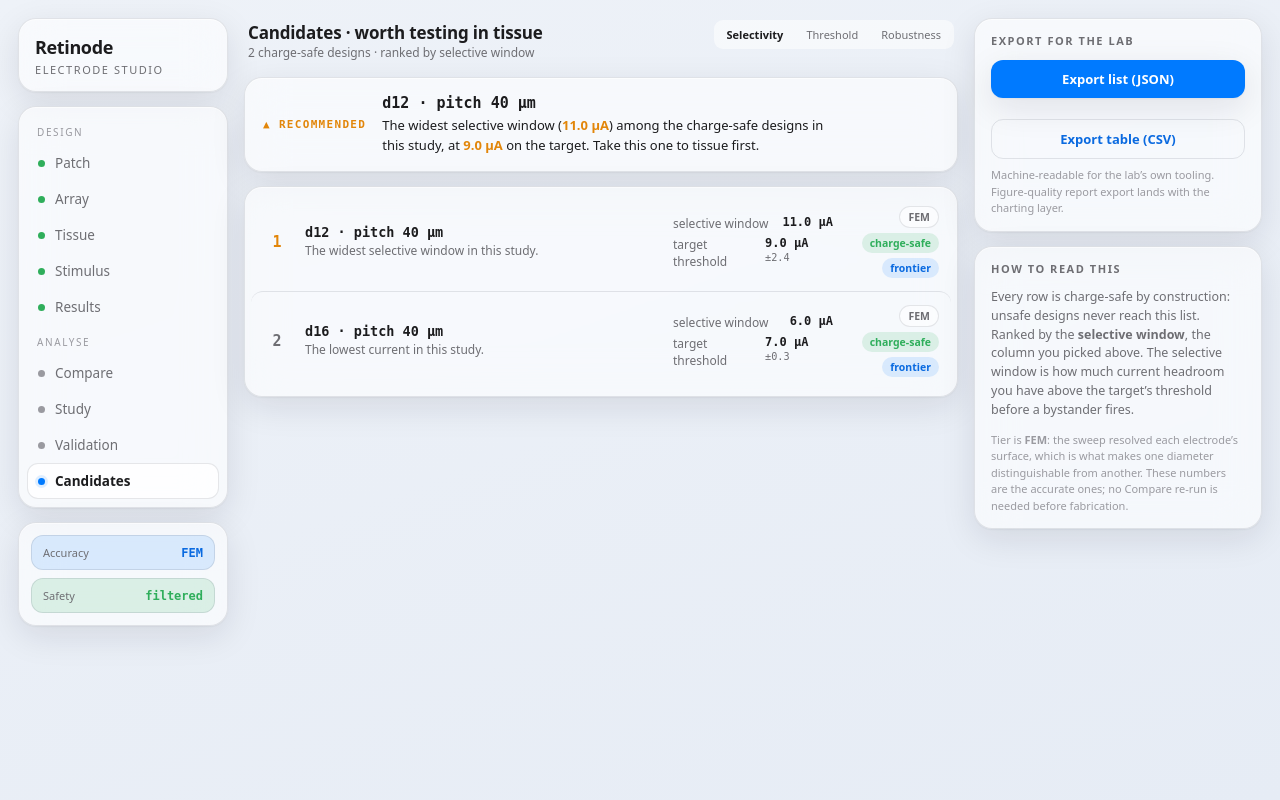
Candidates · the trajectory whisker › ranks by threshold, cheapest first
Click the button "threshold" at (832, 34), box top-left (796, 23), bottom-right (868, 46)
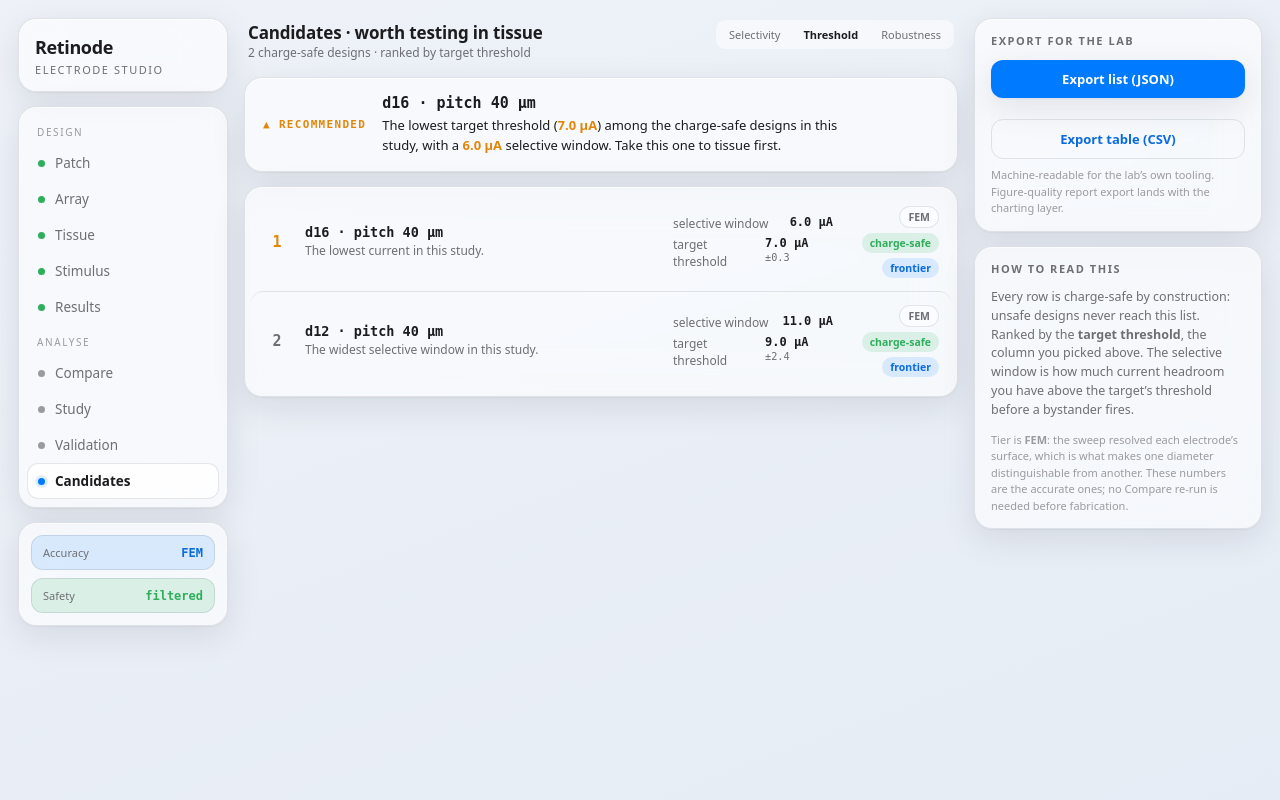
Expected: the 1st text "d16 · pitch 40 µm" is shown, top-left (382, 94), bottom-right (536, 112)
